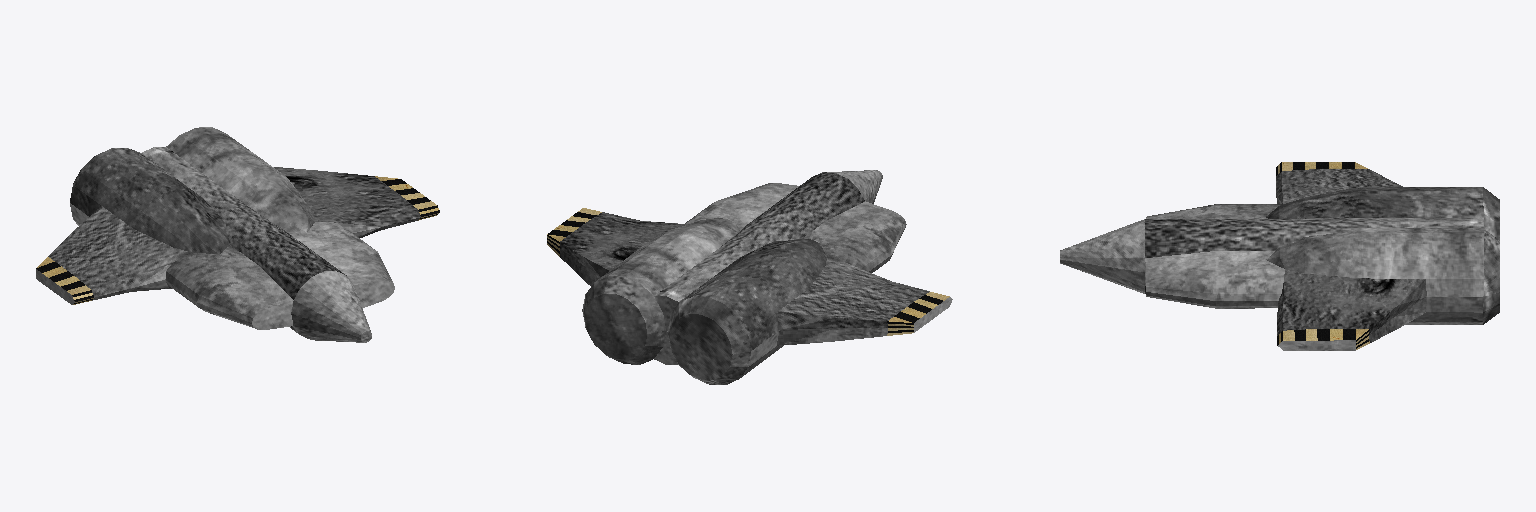
The picture shows the model from 3 angles: view 1: azimuth 30°, elevation 25°; view 2: azimuth 150°, elevation 25°; view 3: azimuth 270°, elevation 25°; orthographic projection.
Visible parts, largest first — view 1: Cube; view 2: Cube; view 3: Cube.
Boxes of the visible parts, <box> form: Cube: <box>36,127,439,342</box>; Cube: <box>547,170,952,384</box>; Cube: <box>1060,162,1499,350</box>.
Bounding box in the file's own units: 11.2 × 2.58 × 11.65.
Materials: 3 (3 with a texture image).